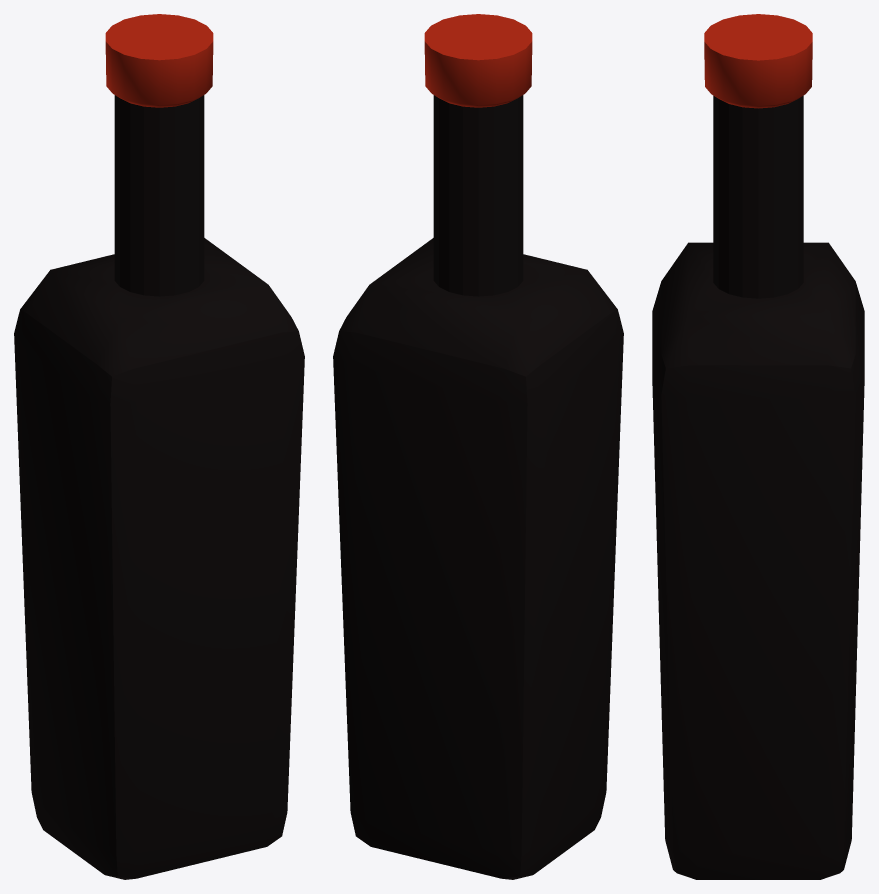
File: pingzi2.fbx
The picture shows the model from 3 angles, left to right: view 1: azimuth 30°, elevation 25°; view 2: azimuth 150°, elevation 25°; view 3: azimuth 270°, elevation 25°; orthographic projection.
Parts seen in each view (by area): view 1: Box036, Box036.001, Box036.002; view 2: Box036, Box036.001, Box036.002; view 3: Box036, Box036.001, Box036.002.
Part boxes in pixels (x1,y1,x2,y2): Box036: [14, 95, 304, 879]; Box036.001: [105, 41, 213, 107]; Box036.002: [105, 14, 213, 60]; Box036: [333, 95, 623, 879]; Box036.001: [424, 41, 532, 107]; Box036.002: [424, 14, 532, 60]; Box036: [652, 95, 864, 879]; Box036.001: [704, 42, 812, 108]; Box036.002: [704, 14, 812, 60].
Size of the model in its own units: 11.62 by 42.57 by 10.1.
